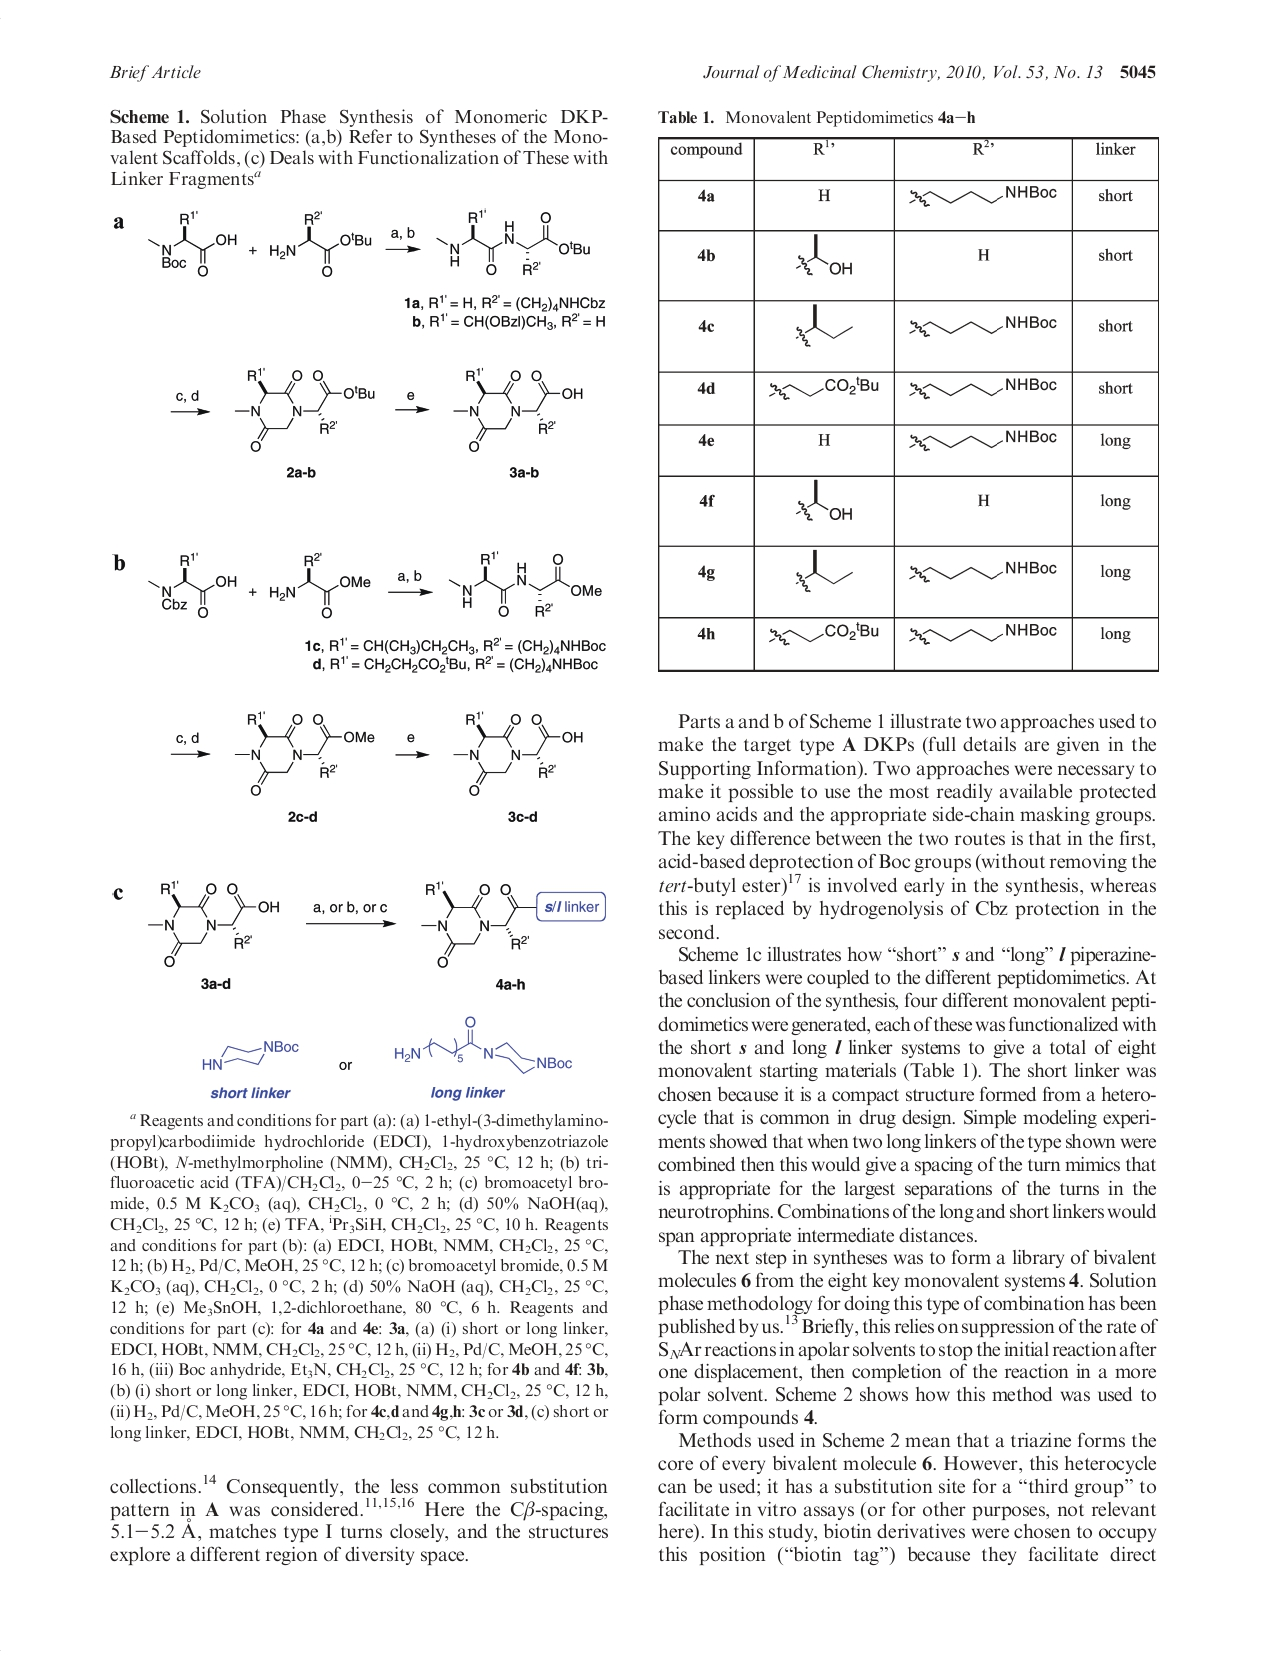exist_molecular: (414, 874, 608, 969), (335, 1009, 574, 1079), (227, 707, 386, 803), (148, 868, 287, 973), (233, 367, 382, 455), (434, 207, 608, 281), (452, 362, 589, 453), (451, 707, 578, 803), (445, 548, 604, 622), (265, 543, 380, 618), (269, 210, 376, 281), (144, 545, 242, 622), (148, 210, 242, 279), (908, 311, 1063, 350), (906, 552, 1059, 590), (197, 1027, 306, 1076), (900, 426, 1060, 459), (899, 184, 1059, 214), (908, 374, 1060, 406), (769, 371, 887, 411), (906, 621, 1059, 649), (794, 473, 866, 528), (781, 305, 860, 352), (790, 548, 866, 594), (793, 231, 858, 281), (765, 621, 884, 646)
